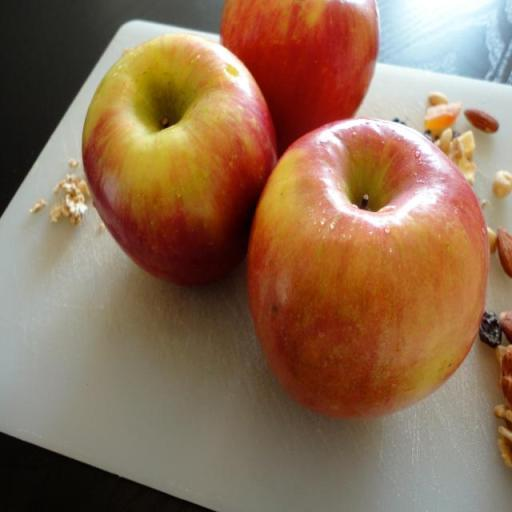fruit: (249, 120, 487, 416), (83, 35, 275, 282), (221, 0, 377, 152)
